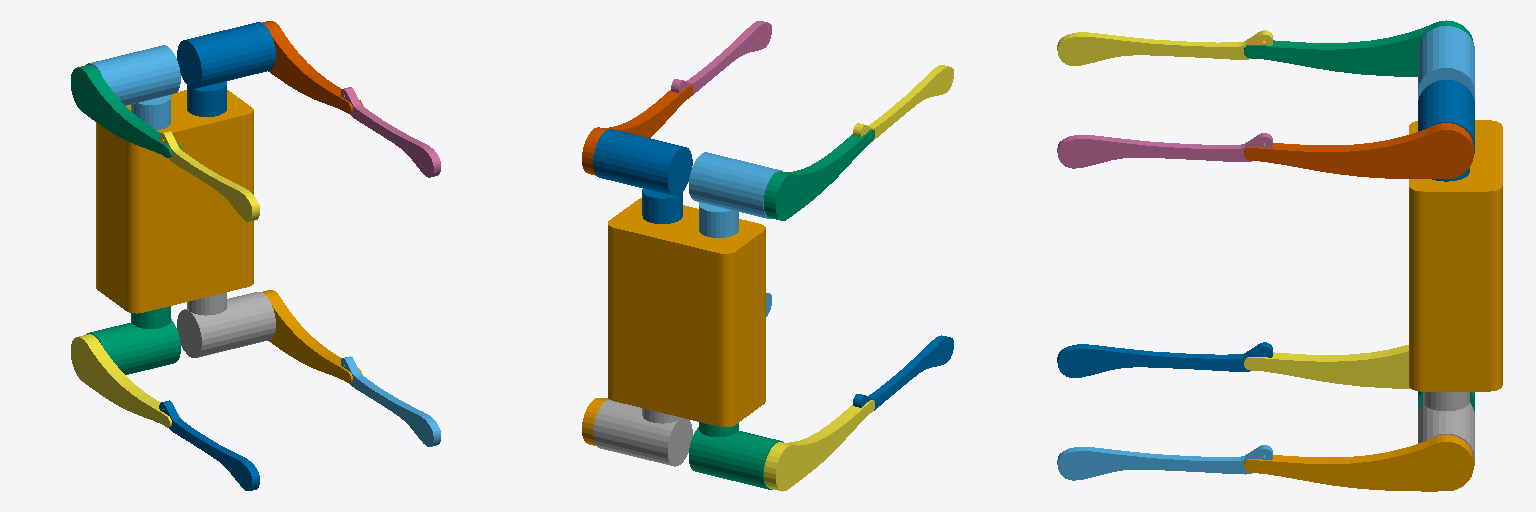
URDF robot description (generated_robot):
<?xml version='1.0' encoding='utf-8'?>
<robot name="generated_robot">
  <link name="base_link">
    <inertial>
      <origin xyz="0 0 0" rpy="0 0 0" />
      <mass value="3.9" />
      <inertia ixx="0.021292524" iyy="0.028421616" izz="0.013511741" ixy="0" ixz="0" iyz="0" />
    </inertial>
    <visual>
      <origin xyz="0 0 0" rpy="0 0 0" />
      <geometry>
        <mesh filename="meshes/part_001_solid_001.stl" scale="0.001 0.001 0.001" />
      </geometry>
    </visual>
    <collision name="collision_1">
      <origin xyz="0 -2.1675923e-19 0.00097619678" rpy="0 -1.5707963 -1.5707963" />
      <geometry>
        <box size="0.226 0.18 0.1" />
      </geometry>
    </collision>
  </link>
  <link name="fr_hip_link">
    <inertial>
      <origin xyz="-0.023050145 0 0.057426144" rpy="0 0 0" />
      <mass value="0.62" />
      <inertia ixx="0.00048325734" iyy="0.0009104621" izz="0.00070399406" ixy="-8.3695575e-13" ixz="0.00012252975" iyz="1.4497271e-12" />
    </inertial>
    <visual>
      <origin xyz="0.04 0.01 -0.118" rpy="0 0 0" />
      <geometry>
        <mesh filename="meshes/part_006_solid_006.stl" scale="0.001 0.001 0.001" />
      </geometry>
    </visual>
    <visual>
      <origin xyz="0.04 0.01 -0.118" rpy="0 0 0" />
      <geometry>
        <mesh filename="meshes/part_007_solid_007.stl" scale="0.001 0.001 0.001" />
      </geometry>
    </visual>
    <collision name="collision_1">
      <origin xyz="-0.026003414 0 0.0485" rpy="0 -1.5707963 0" />
      <geometry>
        <cylinder radius="0.043" length="0.102" />
      </geometry>
    </collision>
  </link>
  <link name="fr_thigh_link">
    <inertial>
      <origin xyz="-0.065685495 -0.005256966 -0.0085" rpy="0 0 0" />
      <mass value="0.12" />
      <inertia ixx="2.1773505e-05" iyy="0.00050266134" izz="0.00051865469" ixy="-1.2508125e-05" ixz="0" iyz="0" />
    </inertial>
    <visual>
      <origin xyz="0.01 -0.184 0.121" rpy="0 -1.5707963 -1.5707963" />
      <geometry>
        <mesh filename="meshes/part_012_solid_012.stl" scale="0.001 0.001 0.001" />
      </geometry>
    </visual>
    <collision name="collision_1">
      <origin xyz="-0.093437138 -0.0089447786 -0.0085" rpy="-3.1415927 2.1783779e-16 0.018770729" />
      <geometry>
        <box size="0.245 0.039 0.017" />
      </geometry>
    </collision>
  </link>
  <link name="fr_calf_link">
    <inertial>
      <origin xyz="-0.10641066 0.00083241689 0.0085" rpy="0 0 0" />
      <mass value="0.08" />
      <inertia ixx="4.820195e-06" iyy="0.00039617605" izz="0.00039938291" ixy="-2.7087161e-06" ixz="0" iyz="0" />
    </inertial>
    <visual>
      <origin xyz="0.219 -0.184 0.138" rpy="0 -1.5707963 -1.5707963" />
      <geometry>
        <mesh filename="meshes/part_010_solid_010.stl" scale="0.001 0.001 0.001" />
      </geometry>
    </visual>
    <collision name="collision_1">
      <origin xyz="-0.1 0.00065 0.0085" rpy="-3.1415927 2.1983853e-16 0.0098865715" />
      <geometry>
        <box size="0.17 0.035 0.011" />
      </geometry>
    </collision>
    <collision name="collision_2">
      <origin xyz="-0.19 9e-05 0.009" rpy="-3.1415927 2.1983853e-16 0.0098865715" />
      <geometry>
        <sphere radius="0.017" />
      </geometry>
    </collision>
  </link>
  <link name="fl_hip_link">
    <inertial>
      <origin xyz="0.023050145 0 0.057426144" rpy="0 0 0" />
      <mass value="0.62" />
      <inertia ixx="0.00048325734" iyy="0.0009104621" izz="0.00070399406" ixy="8.3695542e-13" ixz="-0.00012252975" iyz="1.449726e-12" />
    </inertial>
    <visual>
      <origin xyz="-0.04 0.01 -0.118" rpy="0 0 0" />
      <geometry>
        <mesh filename="meshes/part_008_solid_008.stl" scale="0.001 0.001 0.001" />
      </geometry>
    </visual>
    <visual>
      <origin xyz="-0.04 0.01 -0.118" rpy="0 0 0" />
      <geometry>
        <mesh filename="meshes/part_009_solid_009.stl" scale="0.001 0.001 0.001" />
      </geometry>
    </visual>
    <collision name="collision_1">
      <origin xyz="0.028 0 0.0485" rpy="0 -1.5707963 -3.1415927" />
      <geometry>
        <cylinder radius="0.043" length="0.102" />
      </geometry>
    </collision>
  </link>
  <link name="fl_thigh_link">
    <inertial>
      <origin xyz="-0.065685495 -0.005256966 0.0085" rpy="0 0 0" />
      <mass value="0.12" />
      <inertia ixx="2.1773505e-05" iyy="0.00050266134" izz="0.00051865469" ixy="-1.2508125e-05" ixz="0" iyz="0" />
    </inertial>
    <visual>
      <origin xyz="0.01 -0.184 -0.121" rpy="0 -1.5707963 -1.5707963" />
      <geometry>
        <mesh filename="meshes/part_011_solid_011.stl" scale="0.001 0.001 0.001" />
      </geometry>
    </visual>
    <collision name="collision_1">
      <origin xyz="-0.093572081 -0.0017566225 0.0085" rpy="-3.1415927 2.1783779e-16 0.018770729" />
      <geometry>
        <box size="0.245 0.039 0.017" />
      </geometry>
    </collision>
  </link>
  <link name="fl_calf_link">
    <inertial>
      <origin xyz="-0.10641066 0.00083241689 0.0085" rpy="0 0 0" />
      <mass value="0.08" />
      <inertia ixx="4.820195e-06" iyy="0.00039617605" izz="0.00039938291" ixy="-2.7087161e-06" ixz="0" iyz="0" />
    </inertial>
    <visual>
      <origin xyz="0.219 -0.184 -0.121" rpy="0 -1.5707963 -1.5707963" />
      <geometry>
        <mesh filename="meshes/part_015_solid_015.stl" scale="0.001 0.001 0.001" />
      </geometry>
    </visual>
    <collision name="collision_1">
      <origin xyz="-0.1 0.00065 0.0085" rpy="-3.1415927 2.1983853e-16 0.0098865715" />
      <geometry>
        <box size="0.17 0.035 0.011" />
      </geometry>
    </collision>
    <collision name="collision_2">
      <origin xyz="-0.19 9e-05 0.009" rpy="-3.1415927 2.1983853e-16 0.0098865715" />
      <geometry>
        <sphere radius="0.017" />
      </geometry>
    </collision>
  </link>
  <link name="bl_hip_link">
    <inertial>
      <origin xyz="0.023050145 0 -0.039926144" rpy="0 0 0" />
      <mass value="0.62" />
      <inertia ixx="0.00048325734" iyy="0.0009104621" izz="0.00070399406" ixy="8.3695575e-13" ixz="0.00012252975" iyz="-1.4497271e-12" />
    </inertial>
    <visual>
      <origin xyz="-0.04 0.01 0.1355" rpy="0 0 0" />
      <geometry>
        <mesh filename="meshes/part_002_solid_002.stl" scale="0.001 0.001 0.001" />
      </geometry>
    </visual>
    <visual>
      <origin xyz="-0.04 0.01 0.1355" rpy="0 0 0" />
      <geometry>
        <mesh filename="meshes/part_003_solid_003.stl" scale="0.001 0.001 0.001" />
      </geometry>
    </visual>
    <collision name="collision_1">
      <origin xyz="0.028 0 -0.031" rpy="0 1.5707963 0" />
      <geometry>
        <cylinder radius="0.043" length="0.102" />
      </geometry>
    </collision>
  </link>
  <link name="bl_thigh_link">
    <inertial>
      <origin xyz="-0.065685495 -0.005256966 0.0085" rpy="0 0 0" />
      <mass value="0.12" />
      <inertia ixx="2.1773505e-05" iyy="0.00050266134" izz="0.00051865469" ixy="-1.2508125e-05" ixz="0" iyz="0" />
    </inertial>
    <visual>
      <origin xyz="0.01 0.184 -0.121" rpy="0 -1.5707963 -1.5707963" />
      <geometry>
        <mesh filename="meshes/part_014_solid_014.stl" scale="0.001 0.001 0.001" />
      </geometry>
    </visual>
    <collision name="collision_1">
      <origin xyz="-0.093572081 -0.0017566225 0.0085" rpy="-3.1415927 2.1783779e-16 0.018770729" />
      <geometry>
        <box size="0.245 0.039 0.017" />
      </geometry>
    </collision>
  </link>
  <link name="bl_calf_link">
    <inertial>
      <origin xyz="-0.10641066 0.00083241689 -0.0085" rpy="0 0 0" />
      <mass value="0.08" />
      <inertia ixx="4.820195e-06" iyy="0.00039617605" izz="0.00039938291" ixy="-2.7087161e-06" ixz="0" iyz="0" />
    </inertial>
    <visual>
      <origin xyz="0.219 0.184 -0.138" rpy="0 -1.5707963 -1.5707963" />
      <geometry>
        <mesh filename="meshes/part_016_solid_016.stl" scale="0.001 0.001 0.001" />
      </geometry>
    </visual>
    <collision name="collision_1">
      <origin xyz="-0.1 0.00065 -0.0085" rpy="-3.1415927 2.1983853e-16 0.0098865715" />
      <geometry>
        <box size="0.17 0.035 0.011" />
      </geometry>
    </collision>
    <collision name="collision_2">
      <origin xyz="-0.19 9e-05 -0.009" rpy="-3.1415927 2.1983853e-16 0.0098865715" />
      <geometry>
        <sphere radius="0.017" />
      </geometry>
    </collision>
  </link>
  <link name="br_hip_link">
    <inertial>
      <origin xyz="-0.023050145 0 -0.039926144" rpy="0 0 0" />
      <mass value="0.62" />
      <inertia ixx="0.00048325734" iyy="0.0009104621" izz="0.00070399406" ixy="-8.3695542e-13" ixz="-0.00012252975" iyz="-1.449726e-12" />
    </inertial>
    <visual>
      <origin xyz="0.04 0.01 0.1355" rpy="0 0 0" />
      <geometry>
        <mesh filename="meshes/part_004_solid_004.stl" scale="0.001 0.001 0.001" />
      </geometry>
    </visual>
    <visual>
      <origin xyz="0.04 0.01 0.1355" rpy="0 0 0" />
      <geometry>
        <mesh filename="meshes/part_005_solid_005.stl" scale="0.001 0.001 0.001" />
      </geometry>
    </visual>
    <collision name="collision_1">
      <origin xyz="-0.028 0 -0.031" rpy="0 1.5707963 3.1415927" />
      <geometry>
        <cylinder radius="0.043" length="0.102" />
      </geometry>
    </collision>
  </link>
  <link name="br_thigh_link">
    <inertial>
      <origin xyz="-0.065685495 -0.005256966 -0.0085" rpy="0 0 0" />
      <mass value="0.12" />
      <inertia ixx="2.1773505e-05" iyy="0.00050266134" izz="0.00051865469" ixy="-1.2508125e-05" ixz="0" iyz="0" />
    </inertial>
    <visual>
      <origin xyz="0.01 0.184 0.121" rpy="0 -1.5707963 -1.5707963" />
      <geometry>
        <mesh filename="meshes/part_013_solid_013.stl" scale="0.001 0.001 0.001" />
      </geometry>
    </visual>
    <collision name="collision_1">
      <origin xyz="-0.093572081 -0.0017566225 -0.0085" rpy="-3.1415927 2.1783779e-16 0.018770729" />
      <geometry>
        <box size="0.245 0.039 0.017" />
      </geometry>
    </collision>
  </link>
  <link name="br_calf_link">
    <inertial>
      <origin xyz="-0.10641066 0.00083241689 0.0085" rpy="0 0 0" />
      <mass value="0.08" />
      <inertia ixx="4.820195e-06" iyy="0.00039617605" izz="0.00039938291" ixy="-2.7087161e-06" ixz="0" iyz="0" />
    </inertial>
    <visual>
      <origin xyz="0.219 0.184 0.138" rpy="0 -1.5707963 -1.5707963" />
      <geometry>
        <mesh filename="meshes/part_017_solid_017.stl" scale="0.001 0.001 0.001" />
      </geometry>
    </visual>
    <collision name="collision_1">
      <origin xyz="-0.1 0.00065 0.0085" rpy="-3.1415927 2.1983853e-16 0.0098865715" />
      <geometry>
        <box size="0.17 0.035 0.011" />
      </geometry>
    </collision>
    <collision name="collision_2">
      <origin xyz="-0.19 9e-05 0.009" rpy="-3.1415927 2.1983853e-16 0.0098865715" />
      <geometry>
        <sphere radius="0.017" />
      </geometry>
    </collision>
  </link>
  <joint name="fr_hip_joint" type="revolute">
    <origin xyz="-0.04 -0.01 0.118" rpy="0 0 0" />
    <parent link="base_link" />
    <child link="fr_hip_link" />
    <axis xyz="0 0 1" />
    <limit lower="-1.57" upper="1.57" effort="10" velocity="5" />
  </joint>
  <joint name="fr_thigh_joint" type="revolute">
    <origin xyz="-0.081 0 0.066" rpy="1.5707963 0 1.5707963" />
    <parent link="fr_hip_link" />
    <child link="fr_thigh_link" />
    <axis xyz="0 0 1" />
    <limit lower="-1.57" upper="1.57" effort="10" velocity="5" />
  </joint>
  <joint name="fr_calf_joint" type="revolute">
    <origin xyz="-0.209 0 -0.017" rpy="0 0 0" />
    <parent link="fr_thigh_link" />
    <child link="fr_calf_link" />
    <axis xyz="0 0 1" />
    <limit lower="-2.9321531" upper="0" effort="10" velocity="5" />
  </joint>
  <joint name="fl_hip_joint" type="revolute">
    <origin xyz="0.04 -0.01 0.118" rpy="0 0 0" />
    <parent link="base_link" />
    <child link="fl_hip_link" />
    <axis xyz="0 0 1" />
    <limit lower="-1.57" upper="1.57" effort="10" velocity="5" />
  </joint>
  <joint name="fl_thigh_joint" type="revolute">
    <origin xyz="0.081 0 0.066" rpy="1.5707963 0 1.5707963" />
    <parent link="fl_hip_link" />
    <child link="fl_thigh_link" />
    <axis xyz="0 0 1" />
    <limit lower="-1.57" upper="1.57" effort="10" velocity="5" />
  </joint>
  <joint name="fl_calf_joint" type="revolute">
    <origin xyz="-0.209 0 0" rpy="0 0 0" />
    <parent link="fl_thigh_link" />
    <child link="fl_calf_link" />
    <axis xyz="0 0 1" />
    <limit lower="-2.9670597" upper="0" effort="10" velocity="5" />
  </joint>
  <joint name="bl_hip_joint" type="revolute">
    <origin xyz="0.04 -0.01 -0.1355" rpy="0 0 0" />
    <parent link="base_link" />
    <child link="bl_hip_link" />
    <axis xyz="0 0 1" />
    <limit lower="-1.57" upper="1.57" effort="10" velocity="5" />
  </joint>
  <joint name="bl_thigh_joint" type="revolute">
    <origin xyz="0.081 0 -0.0485" rpy="1.5707963 0 1.5707963" />
    <parent link="bl_hip_link" />
    <child link="bl_thigh_link" />
    <axis xyz="0 0 1" />
    <limit lower="-1.57" upper="1.57" effort="10" velocity="5" />
  </joint>
  <joint name="bl_calf_joint" type="revolute">
    <origin xyz="-0.209 0 0.017" rpy="0 0 0" />
    <parent link="bl_thigh_link" />
    <child link="bl_calf_link" />
    <axis xyz="0 0 1" />
    <limit lower="-2.9670597" upper="0" effort="10" velocity="5" />
  </joint>
  <joint name="br_hip_joint" type="revolute">
    <origin xyz="-0.04 -0.01 -0.1355" rpy="0 0 0" />
    <parent link="base_link" />
    <child link="br_hip_link" />
    <axis xyz="0 0 1" />
    <limit lower="-1.57" upper="1.57" effort="10" velocity="5" />
  </joint>
  <joint name="br_thigh_joint" type="revolute">
    <origin xyz="-0.081 0 -0.0485" rpy="1.5707963 0 1.5707963" />
    <parent link="br_hip_link" />
    <child link="br_thigh_link" />
    <axis xyz="0 0 1" />
    <limit lower="-1.57" upper="1.57" effort="10" velocity="5" />
  </joint>
  <joint name="br_calf_joint" type="revolute">
    <origin xyz="-0.209 0 -0.017" rpy="0 0 0" />
    <parent link="br_thigh_link" />
    <child link="br_calf_link" />
    <axis xyz="0 0 1" />
    <limit lower="-2.9670597" upper="0" effort="10" velocity="5" />
  </joint>
</robot>

--- What the picture shows (computed from the rendered views, not written in the file) ---
The picture shows the robot from 3 angles, left to right: view 1: azimuth 30°, elevation 25°; view 2: azimuth 150°, elevation 25°; view 3: azimuth 270°, elevation 25°; orthographic projection.
Robot: generated_robot — 13 links, 12 joints (12 revolute); root link base_link; default pose: all joints at 0.
Visible links, largest first — view 1: base_link, fl_hip_link, bl_hip_link, fr_hip_link, br_hip_link, fr_thigh_link, br_thigh_link, bl_thigh_link, fl_thigh_link, br_calf_link, fr_calf_link, fl_calf_link (+1 smaller); view 2: base_link, fl_hip_link, fr_hip_link, bl_hip_link, br_hip_link, fr_thigh_link, br_thigh_link, fl_thigh_link, br_calf_link, fr_calf_link, fl_calf_link, bl_thigh_link; view 3: base_link, bl_thigh_link, fl_thigh_link, fr_thigh_link, br_thigh_link, fr_calf_link, br_calf_link, bl_calf_link, fl_calf_link, fr_hip_link, bl_hip_link, fl_hip_link.
Link boxes in pixels (x1,y1,x2,y2): base_link: [96, 90, 253, 313]; fl_hip_link: [177, 22, 275, 116]; bl_hip_link: [177, 292, 275, 357]; fr_hip_link: [86, 45, 180, 129]; br_hip_link: [86, 306, 180, 374]; fr_thigh_link: [71, 65, 181, 157]; br_thigh_link: [71, 334, 180, 427]; bl_thigh_link: [262, 290, 362, 383]; fl_thigh_link: [262, 21, 362, 113]; br_calf_link: [159, 400, 259, 490]; fr_calf_link: [159, 131, 259, 221]; fl_calf_link: [341, 87, 440, 177]; base_link: [608, 198, 765, 426]; fl_hip_link: [593, 129, 692, 223]; fr_hip_link: [689, 152, 782, 237]; bl_hip_link: [593, 400, 692, 466]; br_hip_link: [689, 422, 783, 489]; fr_thigh_link: [764, 129, 874, 220]; br_thigh_link: [764, 400, 874, 491]; fl_thigh_link: [582, 85, 692, 175]; br_calf_link: [853, 335, 953, 410]; fr_calf_link: [853, 65, 953, 141]; fl_calf_link: [671, 21, 771, 95]; bl_thigh_link: [582, 398, 609, 445]; base_link: [1409, 120, 1502, 391]; bl_thigh_link: [1244, 435, 1473, 491]; fl_thigh_link: [1244, 123, 1473, 178]; fr_thigh_link: [1244, 20, 1473, 76]; br_thigh_link: [1244, 345, 1410, 388]; fr_calf_link: [1057, 30, 1272, 65]; br_calf_link: [1057, 342, 1272, 377]; bl_calf_link: [1057, 445, 1272, 480]; fl_calf_link: [1057, 133, 1272, 168]; fr_hip_link: [1418, 26, 1474, 99]; bl_hip_link: [1418, 392, 1474, 465]; fl_hip_link: [1418, 80, 1474, 181].
Bounding box of the posed robot: 0.276 × 0.4758 × 0.43 m (x, y, z).
17 mesh visuals loaded from 17 distinct referenced files (17 binary STL).
